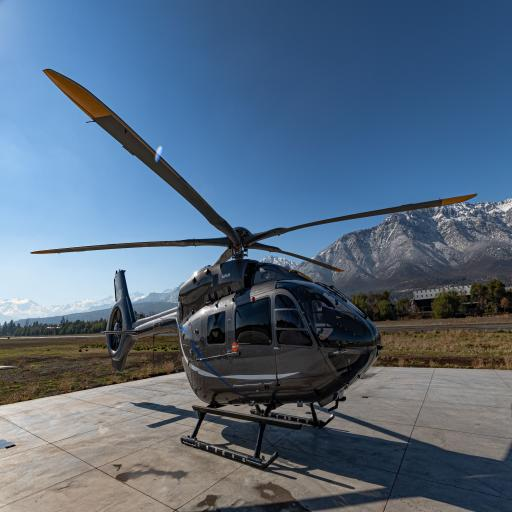helicopter: (31, 64, 485, 477)
